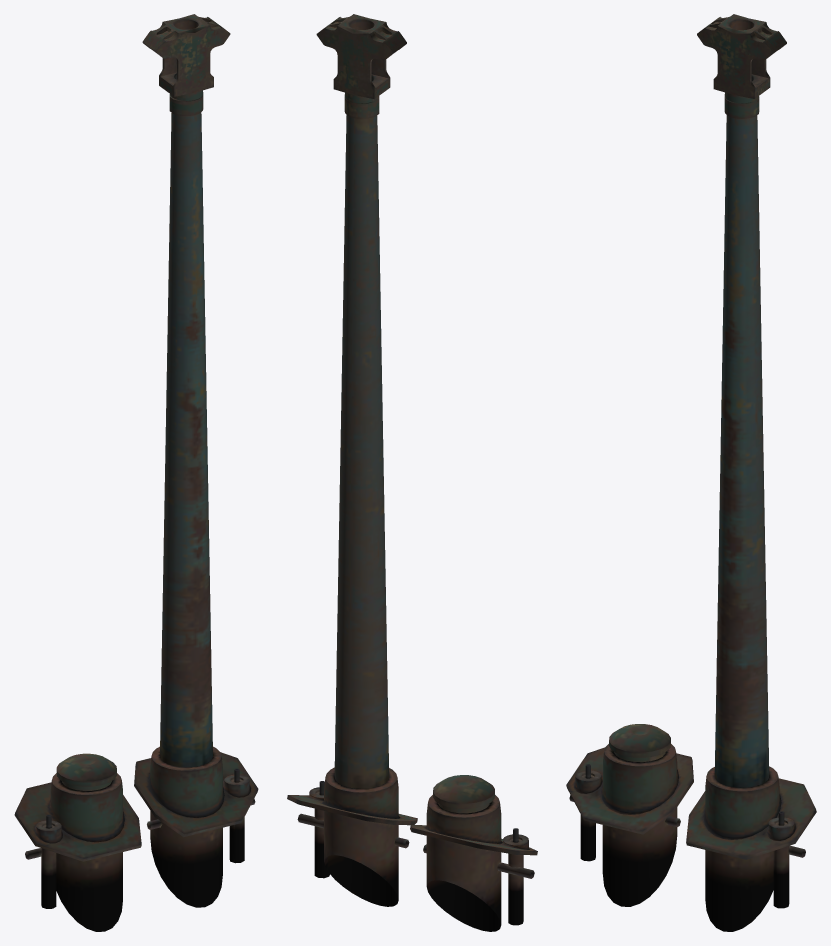
The model's file is Gun_05.glb.
3 renders of one model, left to right at view 1: azimuth 30°, elevation 25°; view 2: azimuth 150°, elevation 25°; view 3: azimuth 330°, elevation 25°, orthographic. The views are drawn at different scales.
Parts seen in each view (by area): view 1: set_0_group_0; view 2: set_0_group_0; view 3: set_0_group_0.
Boxes of the visible parts, box(x1,y1,x2,y2) form: set_0_group_0: box(14, 14, 258, 931); set_0_group_0: box(287, 14, 537, 931); set_0_group_0: box(566, 14, 816, 931).
Size of the model in its own units: 1.02 by 3.76 by 0.3884.
Materials: 1 (1 with a texture image).
